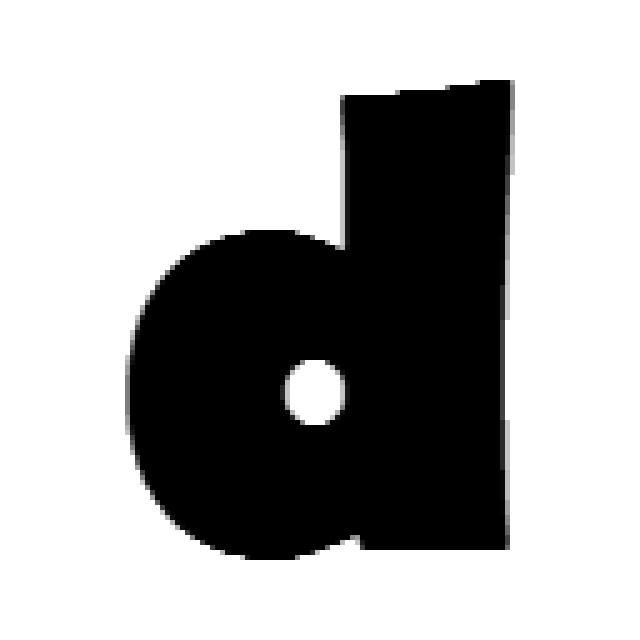D: (125, 81, 510, 556)
